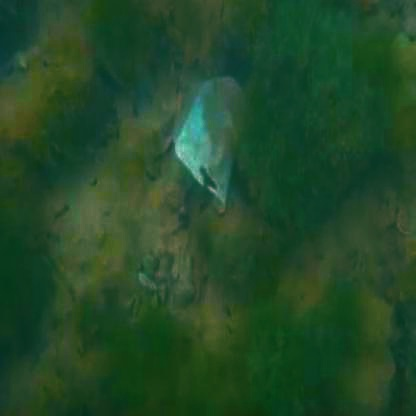plastic: (173, 64, 248, 215)
